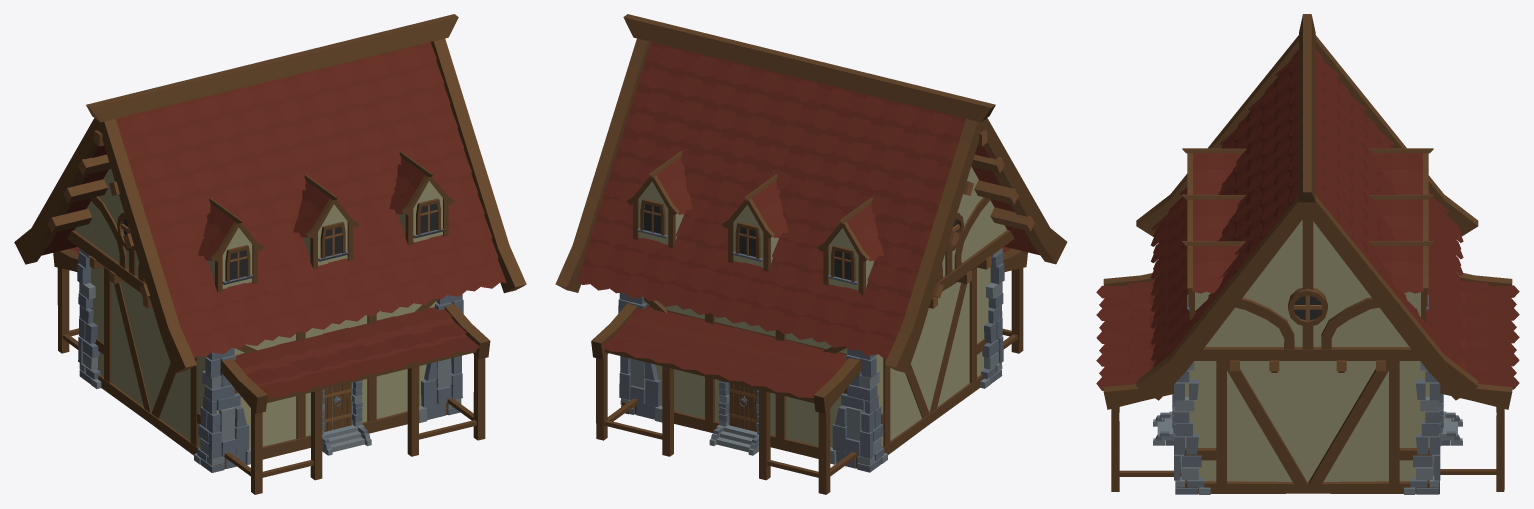
Rendered from FantasyInn.glb.
3 views of the same model, side by side, from view 1: azimuth 30°, elevation 25°; view 2: azimuth 150°, elevation 25°; view 3: azimuth 270°, elevation 25° (orthographic).
Bounding box in the file's own units: 4.03 × 3.49 × 4.02.
